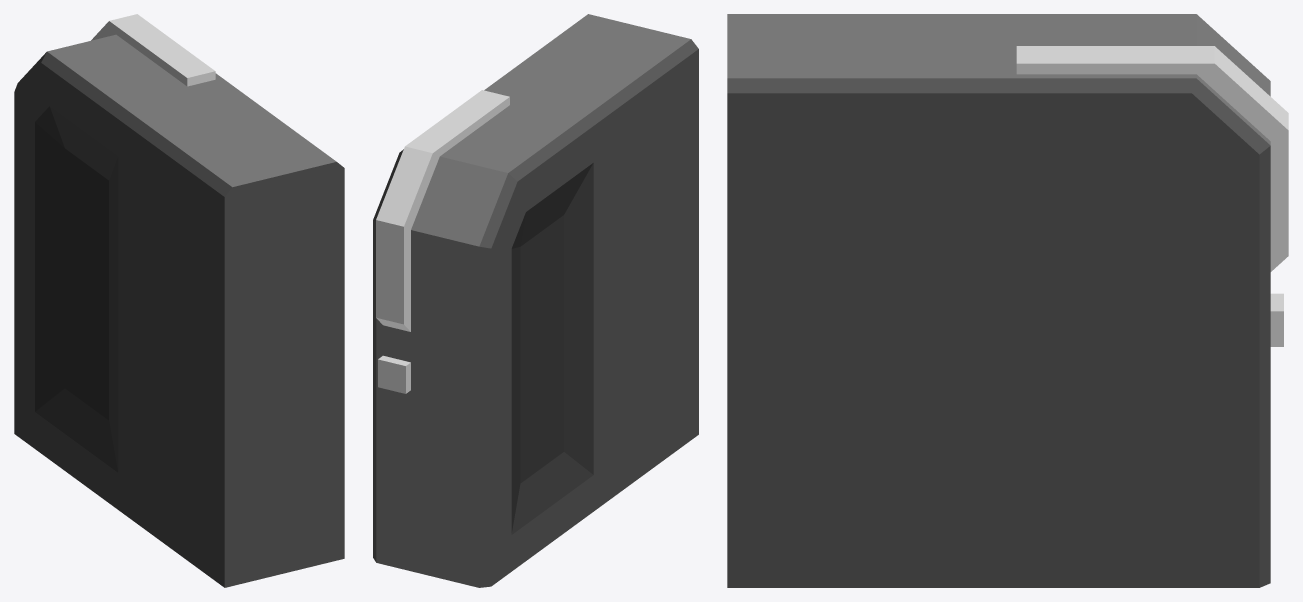
File: computer.FBX
The picture shows the model from 3 angles, left to right: view 1: azimuth 30°, elevation 25°; view 2: azimuth 150°, elevation 25°; view 3: azimuth 270°, elevation 25°; orthographic projection. The views are drawn at different scales.
Visible parts, largest first — view 1: computer, computer_glow; view 2: computer, computer_glow; view 3: computer, computer_glow.
Boxes of the visible parts, box(x1,y1,x2,y2) form: computer: box(14, 34, 344, 587); computer_glow: box(91, 14, 215, 86); computer: box(373, 14, 698, 587); computer_glow: box(376, 90, 509, 393); computer: box(727, 14, 1270, 587); computer_glow: box(1016, 46, 1288, 346).
Bounding box in the file's own units: 6.38 × 20.74 × 20.48.
